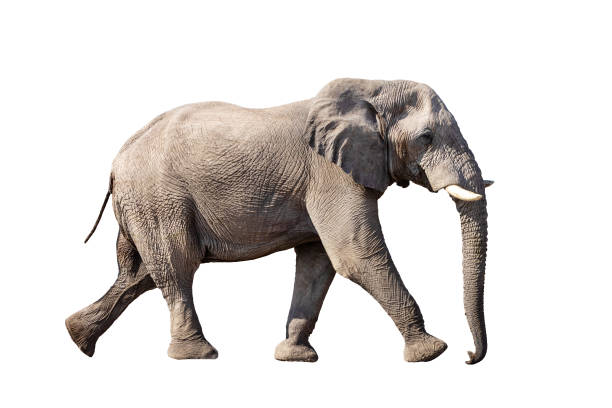africanelephant: (358, 85, 505, 235)
